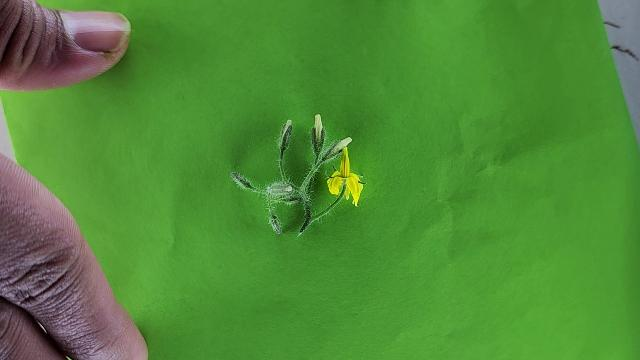Anthesis: (327, 145, 367, 207)
Flower Bud: (319, 135, 352, 161), (279, 118, 293, 160), (312, 114, 324, 152), (230, 171, 254, 189), (269, 214, 282, 235), (282, 119, 292, 136)
